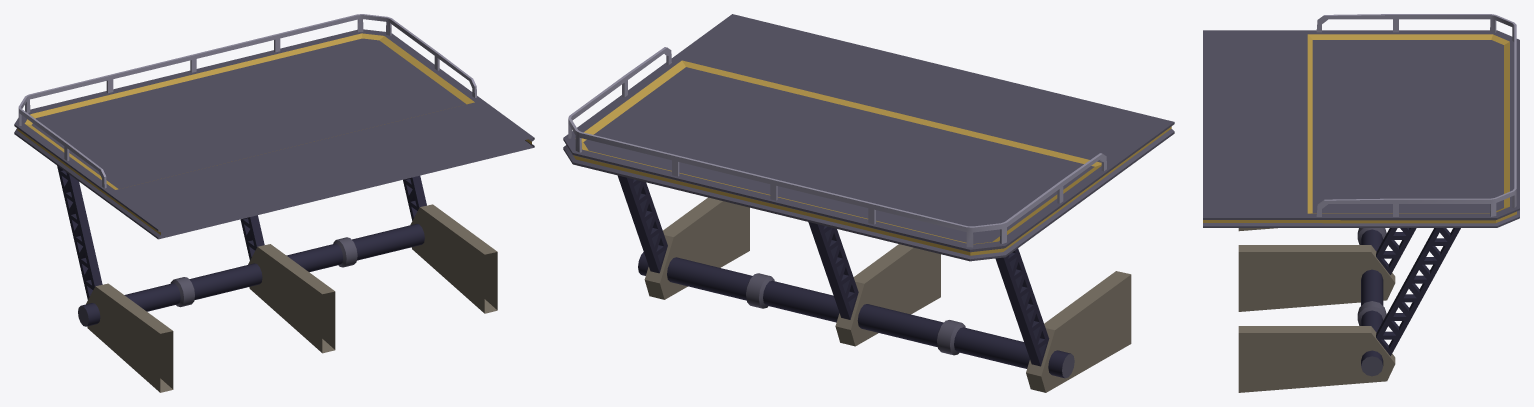
File: LandingPlatform.fbx
3 renders of one model, left to right at view 1: azimuth 30°, elevation 25°; view 2: azimuth 150°, elevation 25°; view 3: azimuth 270°, elevation 25°, orthographic. The views are drawn at different scales.
Parts seen in each view (by area): view 1: Plane; view 2: Plane; view 3: Plane.
Part boxes in pixels (box(x1,y1,x2,y2)): Plane: box(14, 14, 534, 392); Plane: box(563, 14, 1174, 392); Plane: box(1203, 14, 1519, 392).
Bounding box in the file's own units: 4000 × 2008 × 2854.
